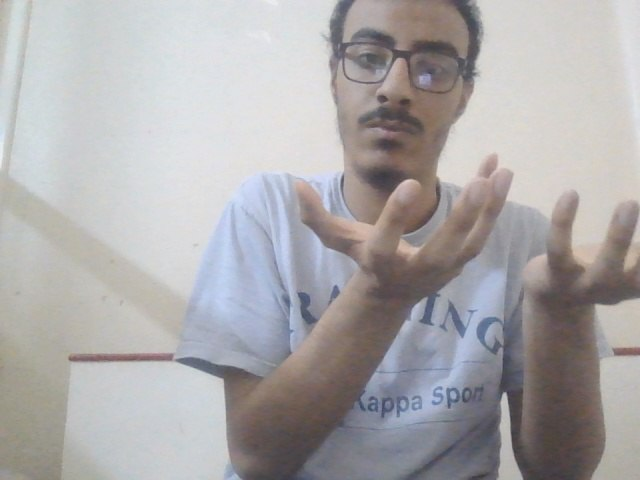What: (286, 150, 640, 314)
